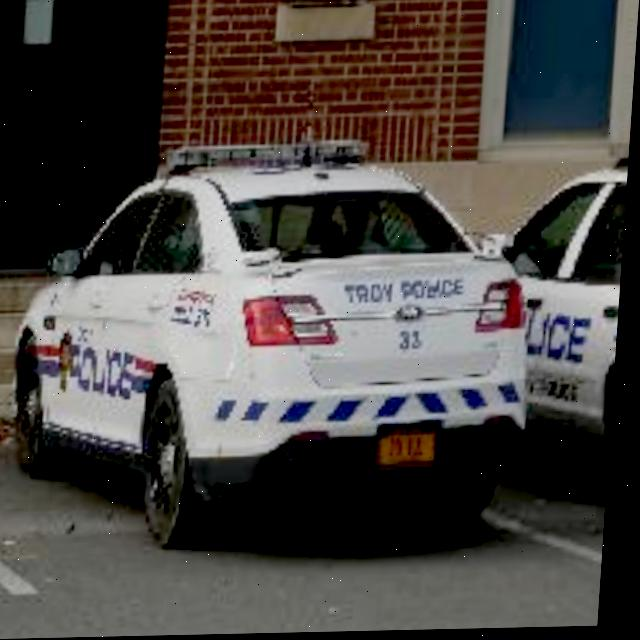emergency: (10, 140, 549, 546), (490, 146, 631, 527)
